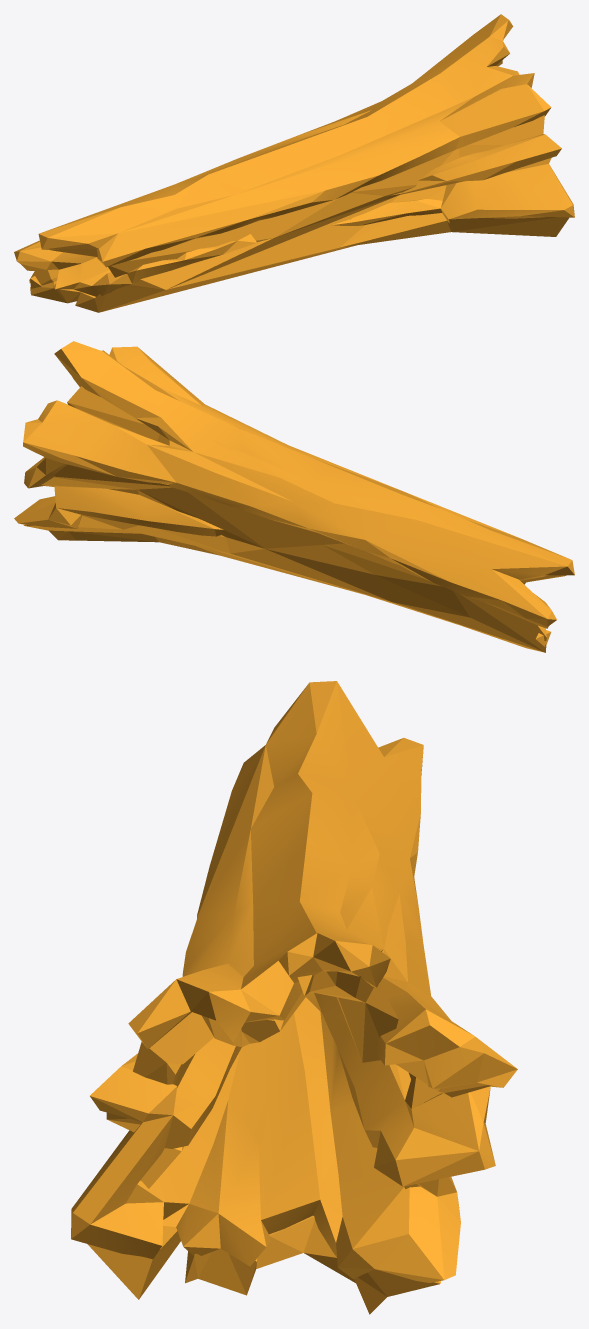
File: SM_Tree_Sequoia_Rotten_Big_A_Snow.fbx
3 renders of one model, top to bottom at view 1: azimuth 30°, elevation 25°; view 2: azimuth 150°, elevation 25°; view 3: azimuth 270°, elevation 25°, orthographic. The views are drawn at different scales.
Parts seen in each view (by area): view 1: tree-sequoia-rotten-big-a-snow; view 2: tree-sequoia-rotten-big-a-snow; view 3: tree-sequoia-rotten-big-a-snow.
Boxes of the visible parts, bbox=[...] form: tree-sequoia-rotten-big-a-snow: bbox=[14, 14, 574, 312]; tree-sequoia-rotten-big-a-snow: bbox=[14, 341, 574, 652]; tree-sequoia-rotten-big-a-snow: bbox=[71, 681, 517, 1314].
Size of the model in its own units: 8.95 by 3.16 by 3.44.
